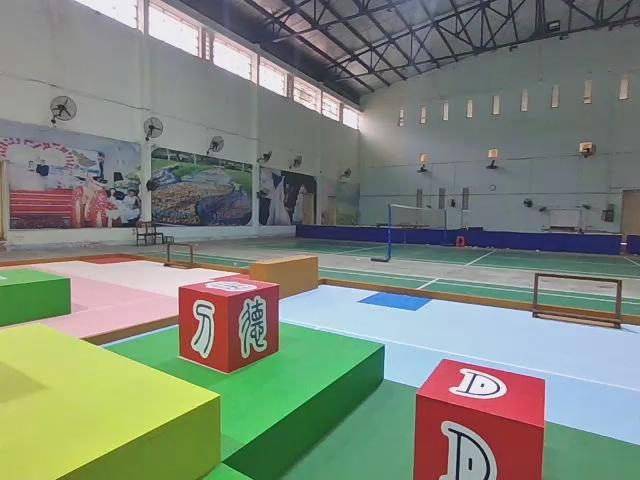R2 Fake: (175, 277, 282, 378)
R2 Real: (410, 355, 549, 480)
